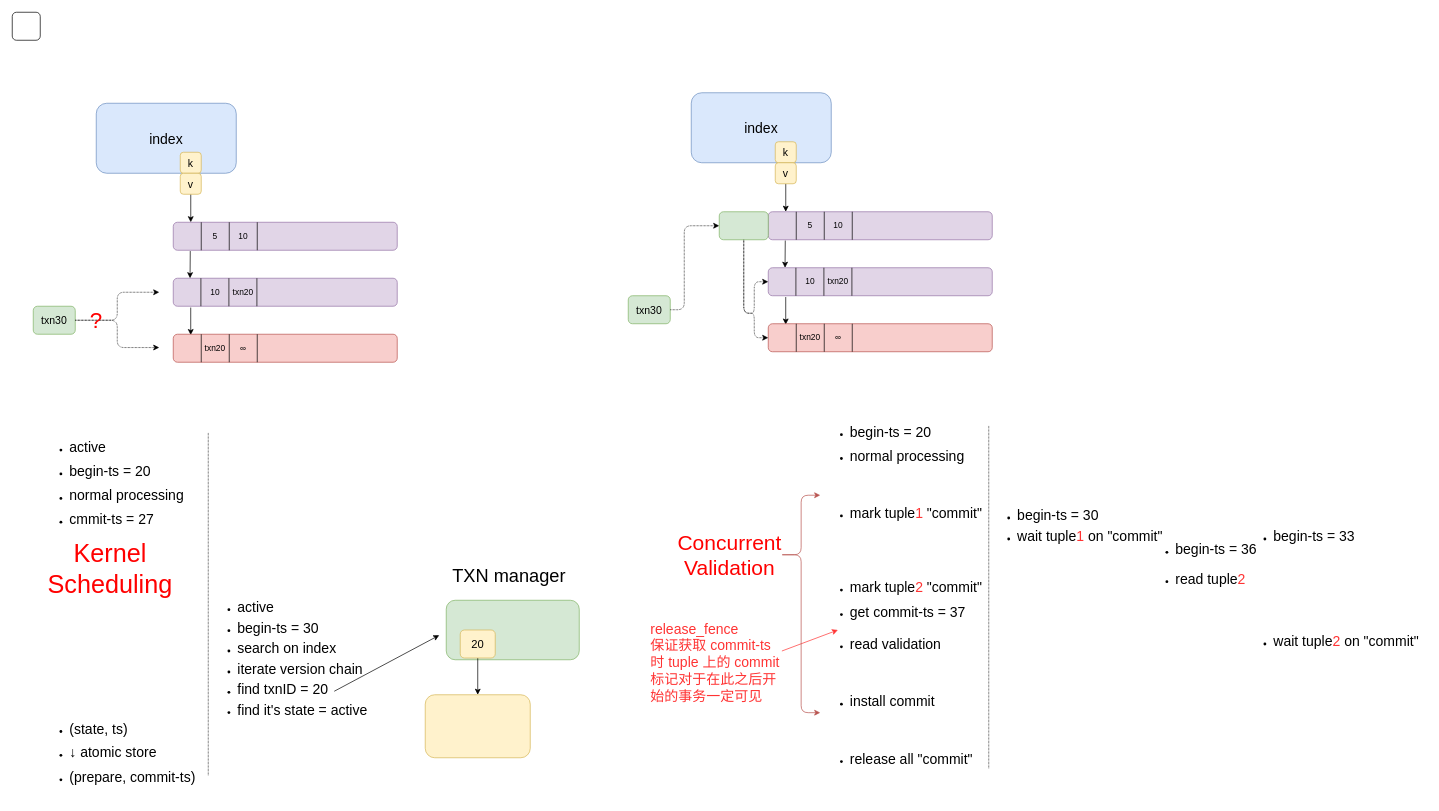
This 1439x811 diagram has some shape labels left out. Each missing label, with the box of its shape:
commit: (719, 211, 768, 240)
state = active commit-ts = null: (425, 694, 530, 758)
